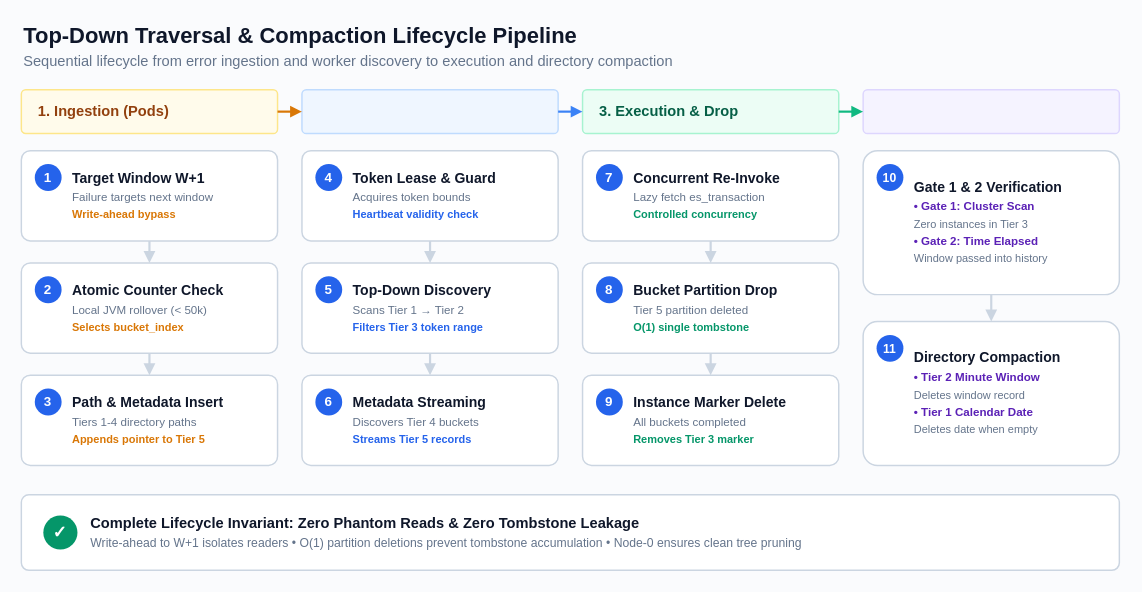
Some shapes in this 1142 by 592 pixel diagram are drawn without their labels. The shapes that lost their labels are listed below. From the top down, each one's centre as x and y in pixels, then its label:
the point at 429,111: 2. Traversal (Workers)
the point at 990,111: 4. Node-0 Overseer
